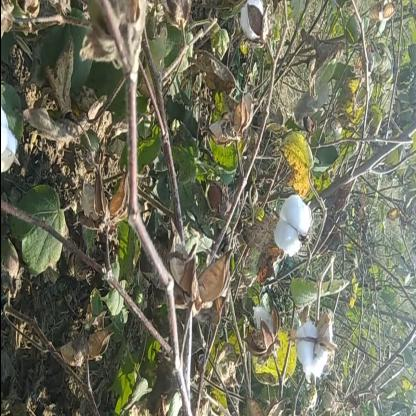cotton_ready: (278, 306, 344, 392), (262, 183, 312, 272)
